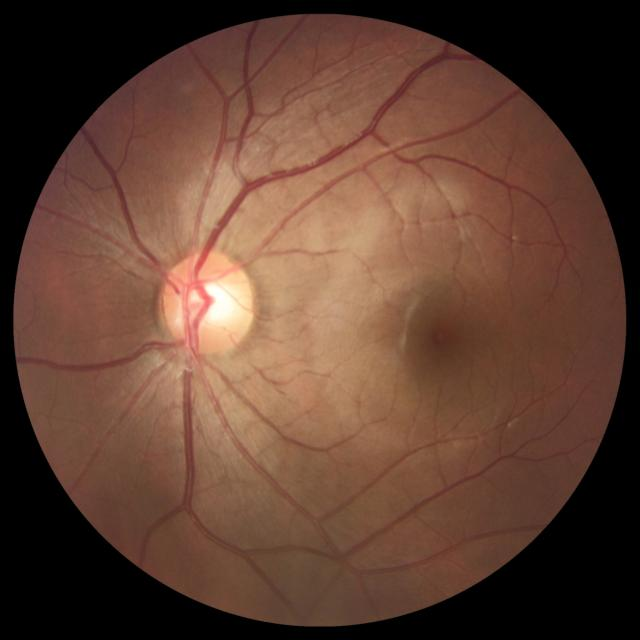OC: (186, 280, 235, 329)
OD: (161, 250, 256, 357)
